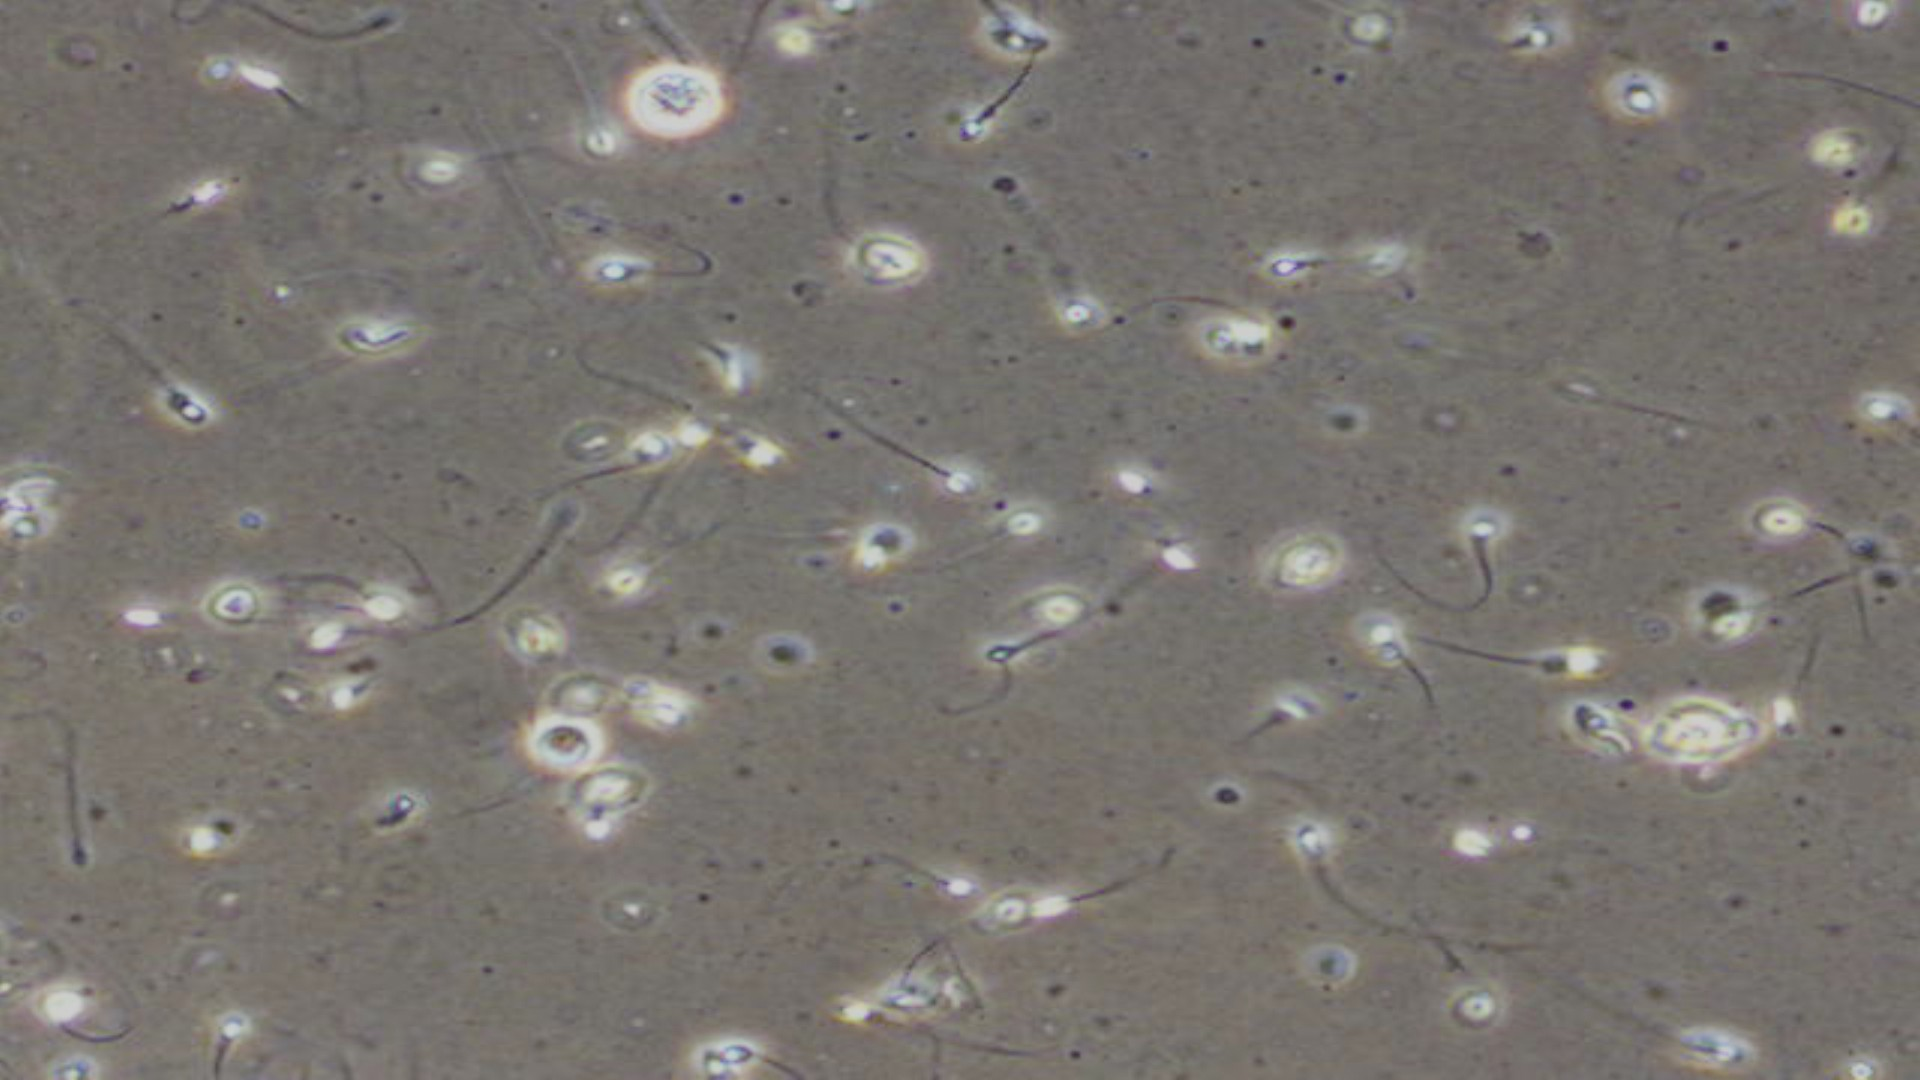sperm: (1002, 831, 1185, 945), (827, 400, 984, 493), (95, 316, 210, 429), (1393, 496, 1509, 603), (567, 222, 735, 295), (266, 556, 419, 632), (831, 1000, 985, 1065), (1437, 636, 1610, 692), (32, 973, 150, 1048), (1364, 615, 1437, 724), (825, 843, 968, 899), (1288, 810, 1364, 909), (251, 71, 356, 141), (1753, 491, 1844, 563), (146, 185, 233, 252), (961, 76, 1034, 150), (196, 1007, 261, 1080)
